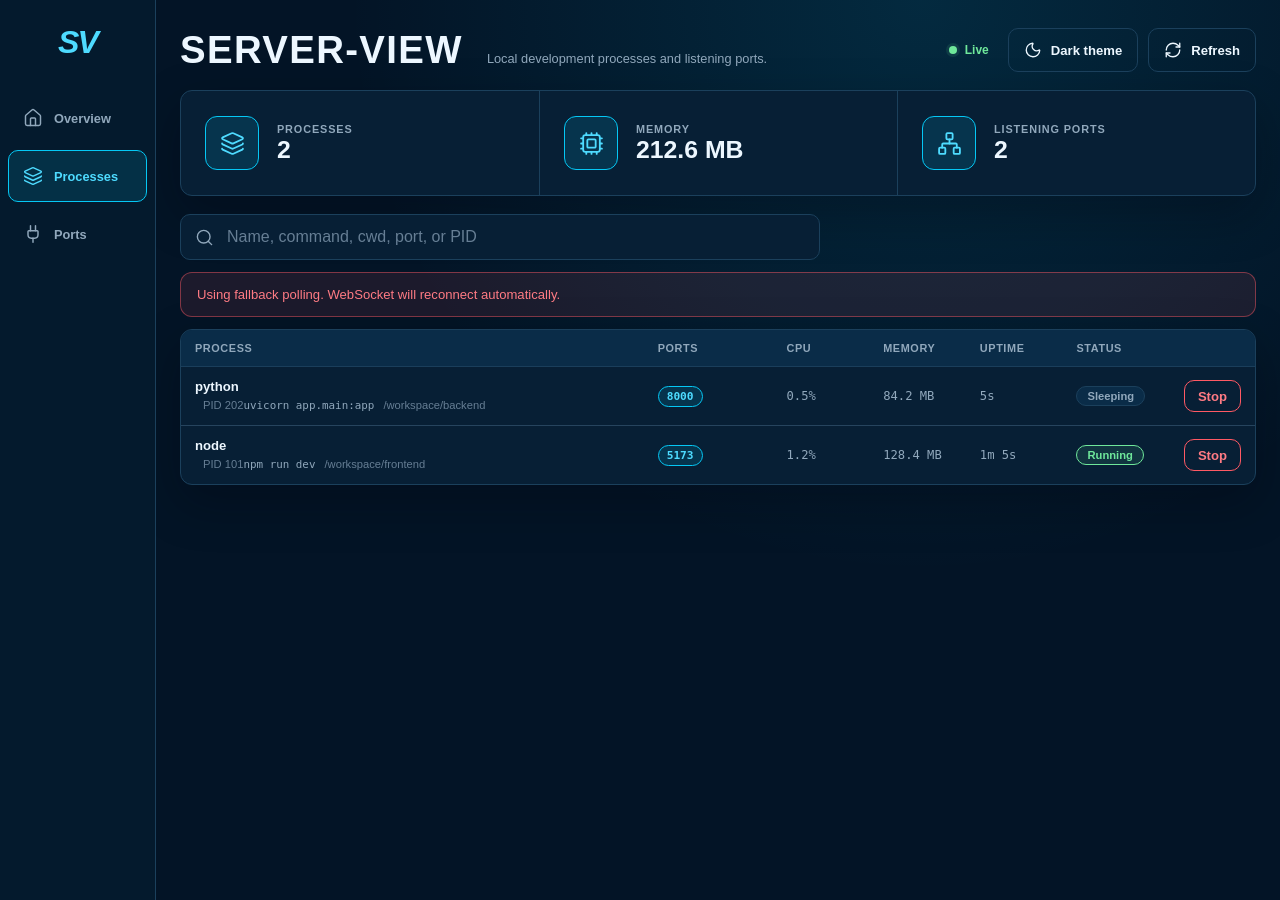
Scenario: App › renders populated table and filters by port and cwd
Expected: the text "npm run dev" is shown, [243,458,315,471]
Expected: the text "uvicorn app.main:app" is shown, [243,399,374,412]
Step 1. Type "uvicorn" into the search field named "Search" → [500, 237], box [180,214,820,260]
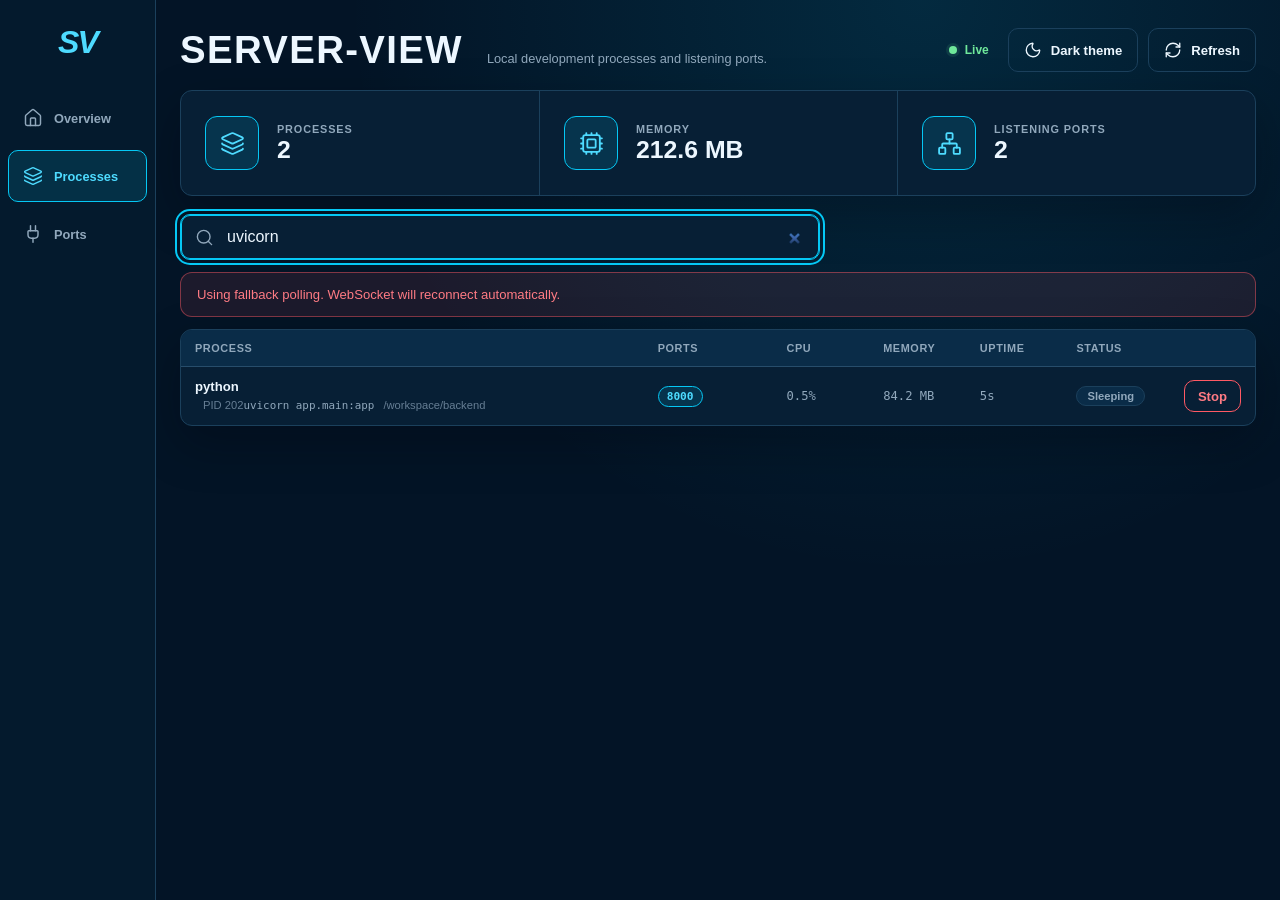
Expected: the text "uvicorn app.main:app" is shown, [243,399,374,412]
Expected: the text "npm run dev" is gone
Step 2. Replace the text in the search field named "Search" with "frontend" → [500, 237], box [180,214,820,260]
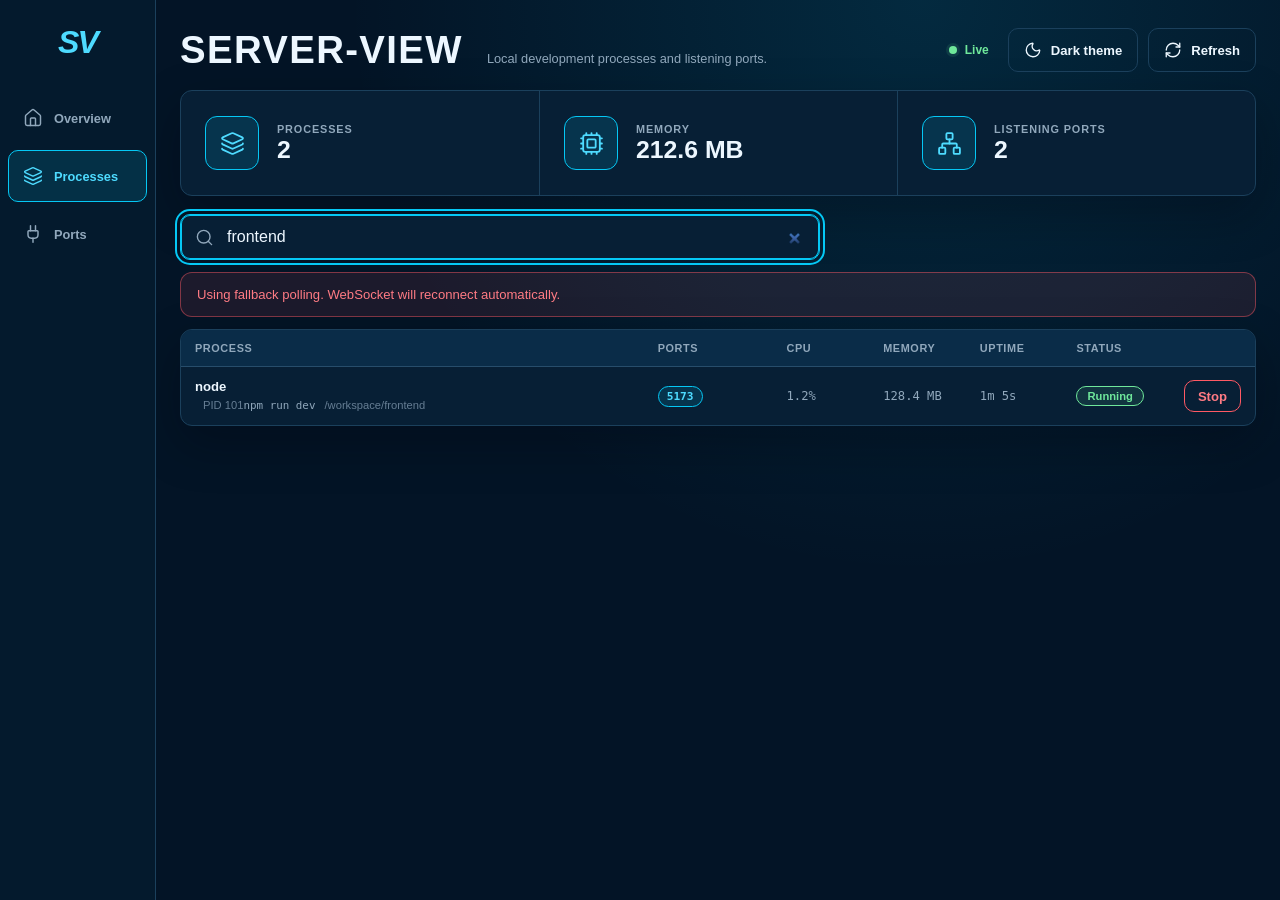
Expected: the text "npm run dev" is shown, [243,399,315,412]
Expected: the text "uvicorn app.main:app" is gone
